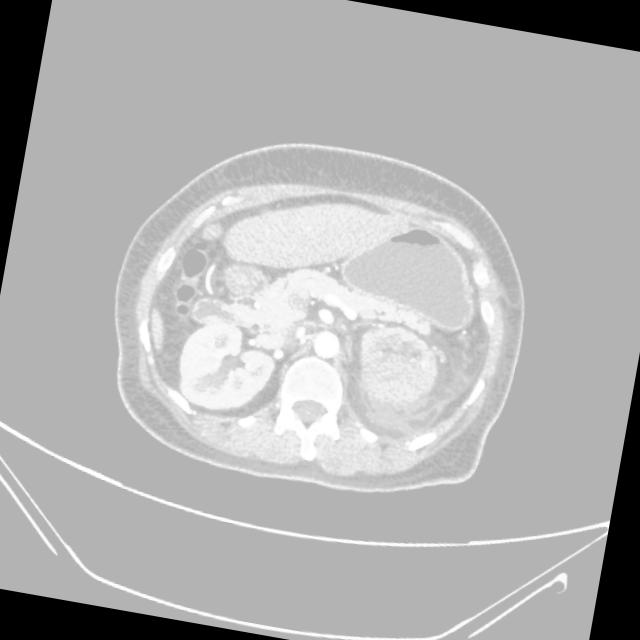TUMOR: (66, 145, 559, 401)
